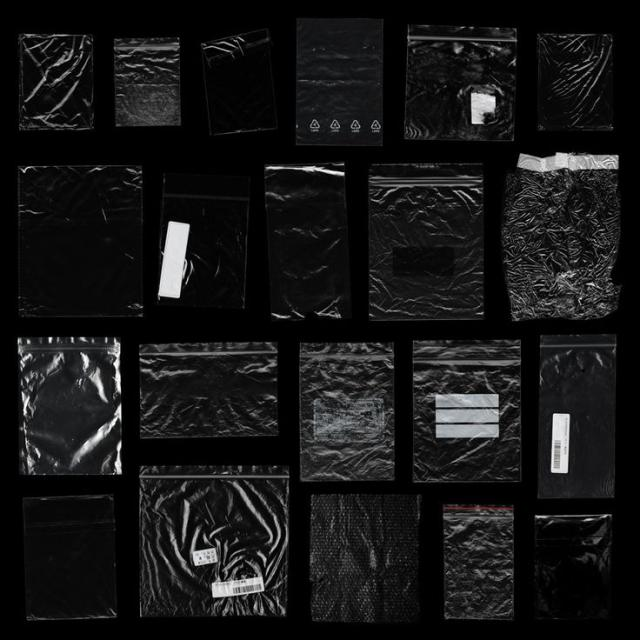Single-layer Plastic: (140, 468, 289, 616), (501, 152, 620, 319), (19, 166, 141, 316), (369, 165, 484, 319), (414, 341, 521, 481), (310, 495, 421, 623), (19, 338, 121, 475), (265, 162, 350, 320), (140, 343, 278, 437), (300, 344, 394, 481), (405, 25, 516, 141), (538, 335, 614, 499), (158, 174, 249, 308), (24, 495, 116, 620), (296, 19, 382, 146), (444, 505, 514, 619), (201, 29, 276, 134), (535, 516, 611, 618), (538, 34, 612, 131), (19, 34, 94, 129), (116, 38, 181, 126)
